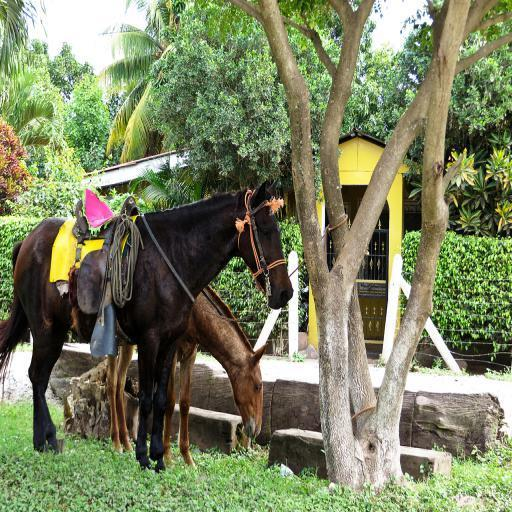horse: (0, 174, 296, 472), (104, 277, 272, 474)
